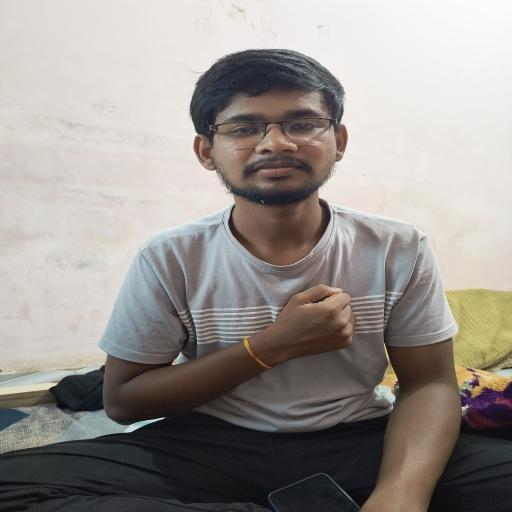Understood: (86, 207, 404, 446)
